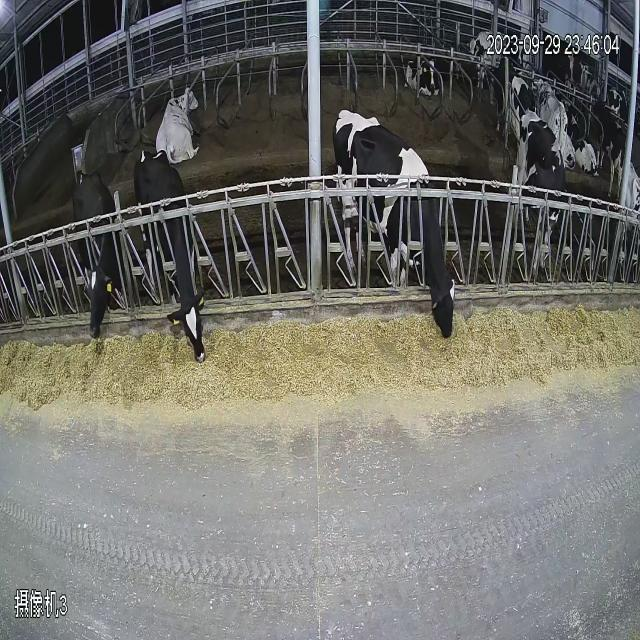feeding: (327, 96, 470, 400), (132, 144, 235, 421), (66, 170, 128, 401)
lying down: (154, 64, 212, 175), (398, 40, 460, 104)
